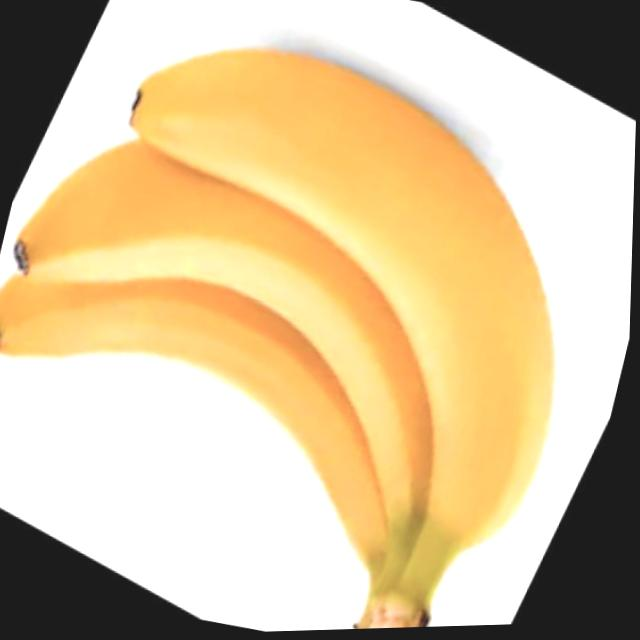Banana: (0, 0, 630, 640)
